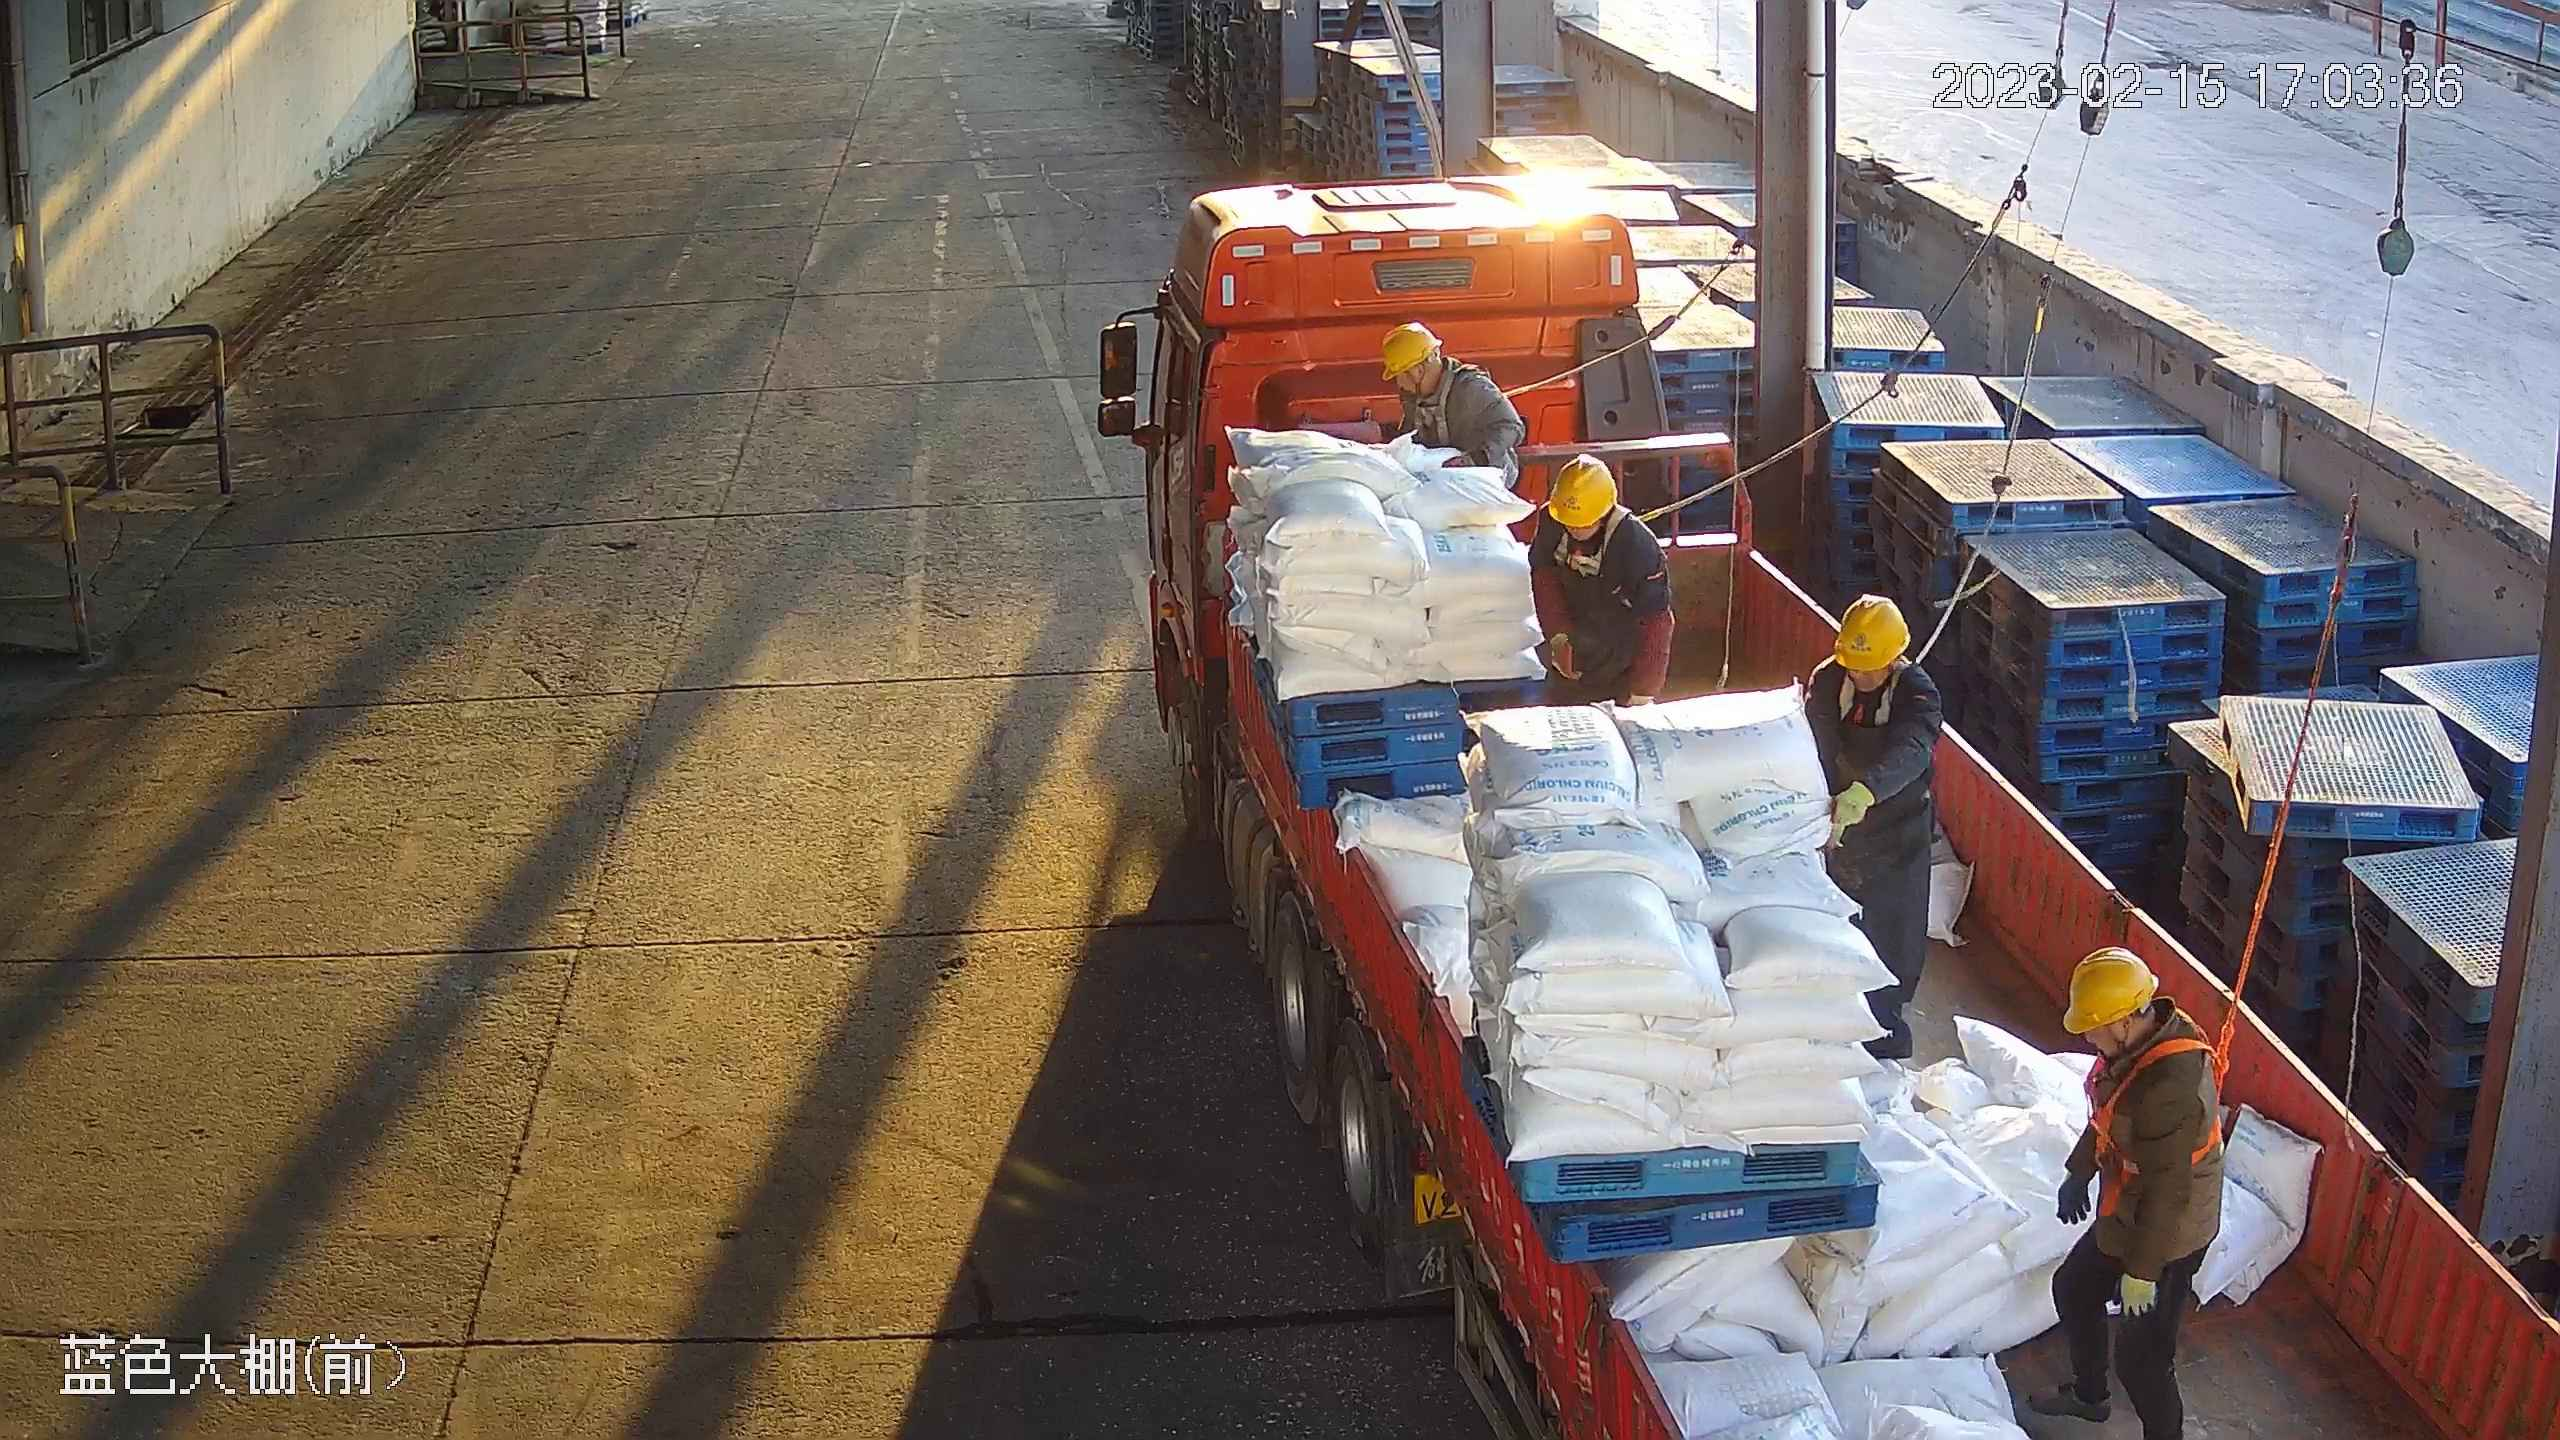belt: (2081, 1039, 2232, 1178), (1404, 379, 1479, 465), (1553, 536, 1614, 586), (1834, 685, 1897, 729)
head: (2056, 951, 2216, 1111), (1813, 597, 1941, 720), (1532, 458, 1653, 564), (1369, 325, 1499, 418)
helmet: (2062, 951, 2160, 1030), (1832, 595, 1909, 669), (1549, 455, 1616, 523), (1374, 322, 1437, 385)
people: (2049, 953, 2239, 1440), (1797, 593, 1944, 1069), (1528, 458, 1674, 713)
truck: (1088, 178, 2560, 1440)
